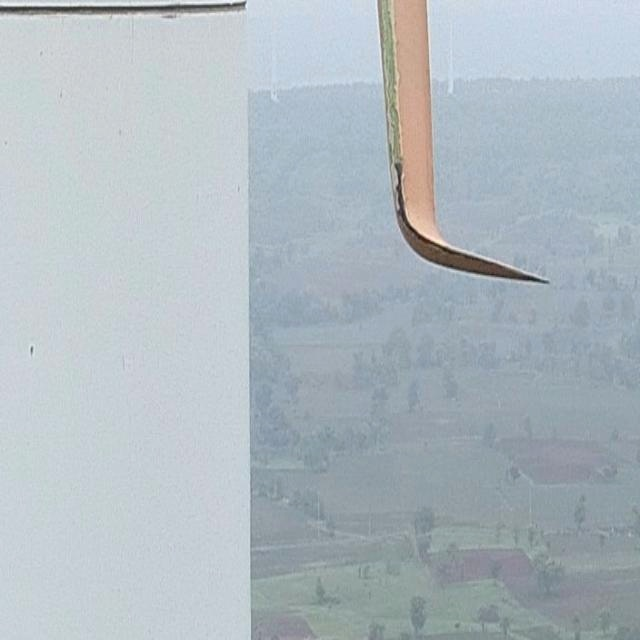EROSION: (380, 22, 403, 153), (392, 164, 412, 228)
